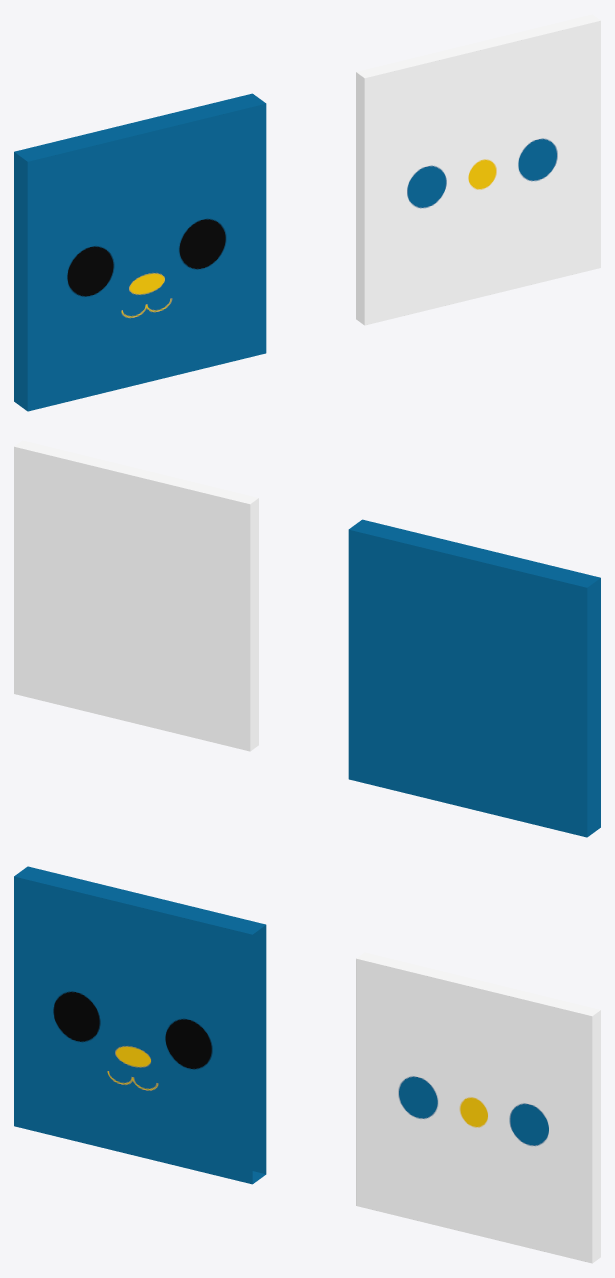
Rendered from tobox.glb.
3 views of the same model, one above another, from view 1: azimuth 30°, elevation 25°; view 2: azimuth 150°, elevation 25°; view 3: azimuth 330°, elevation 25° (orthographic).
Parts seen in each view (by area): view 1: Cube; view 2: Cube; view 3: Cube.
Boxes of the visible parts, <box> form: Cube: <box>14,14,600,411</box>; Cube: <box>14,440,600,837</box>; Cube: <box>14,866,600,1263</box>.
Bounding box in the file's own units: 4.87 × 2.02 × 0.202.
Materials: 1 (1 with a texture image).
